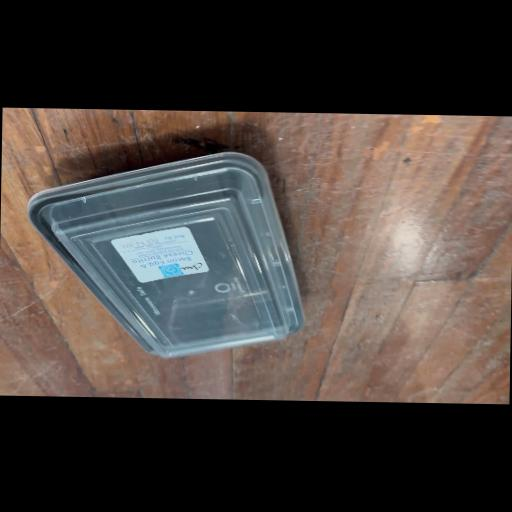rigid_plastic_container: (24, 147, 308, 362)
